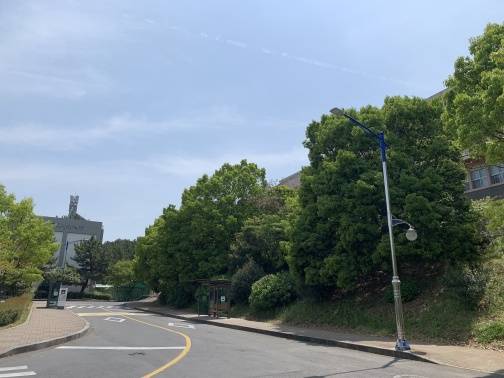College Of Education: (274, 78, 503, 209)
